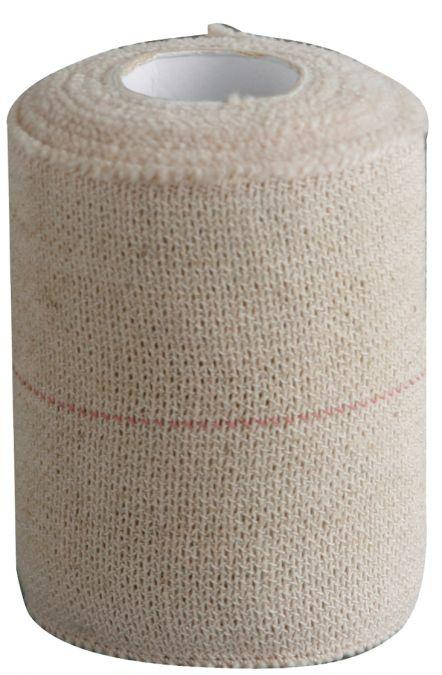bandage: (10, 23, 429, 668)
